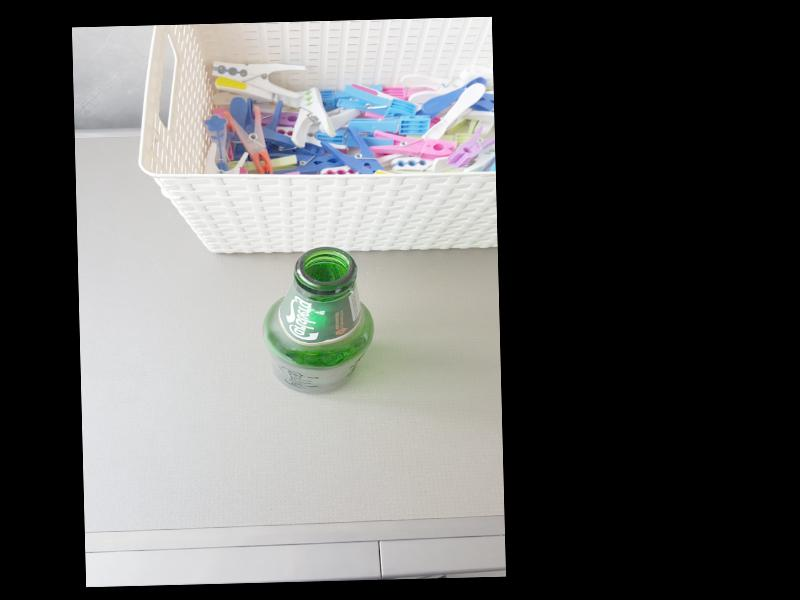Beer: (259, 246, 375, 396)
